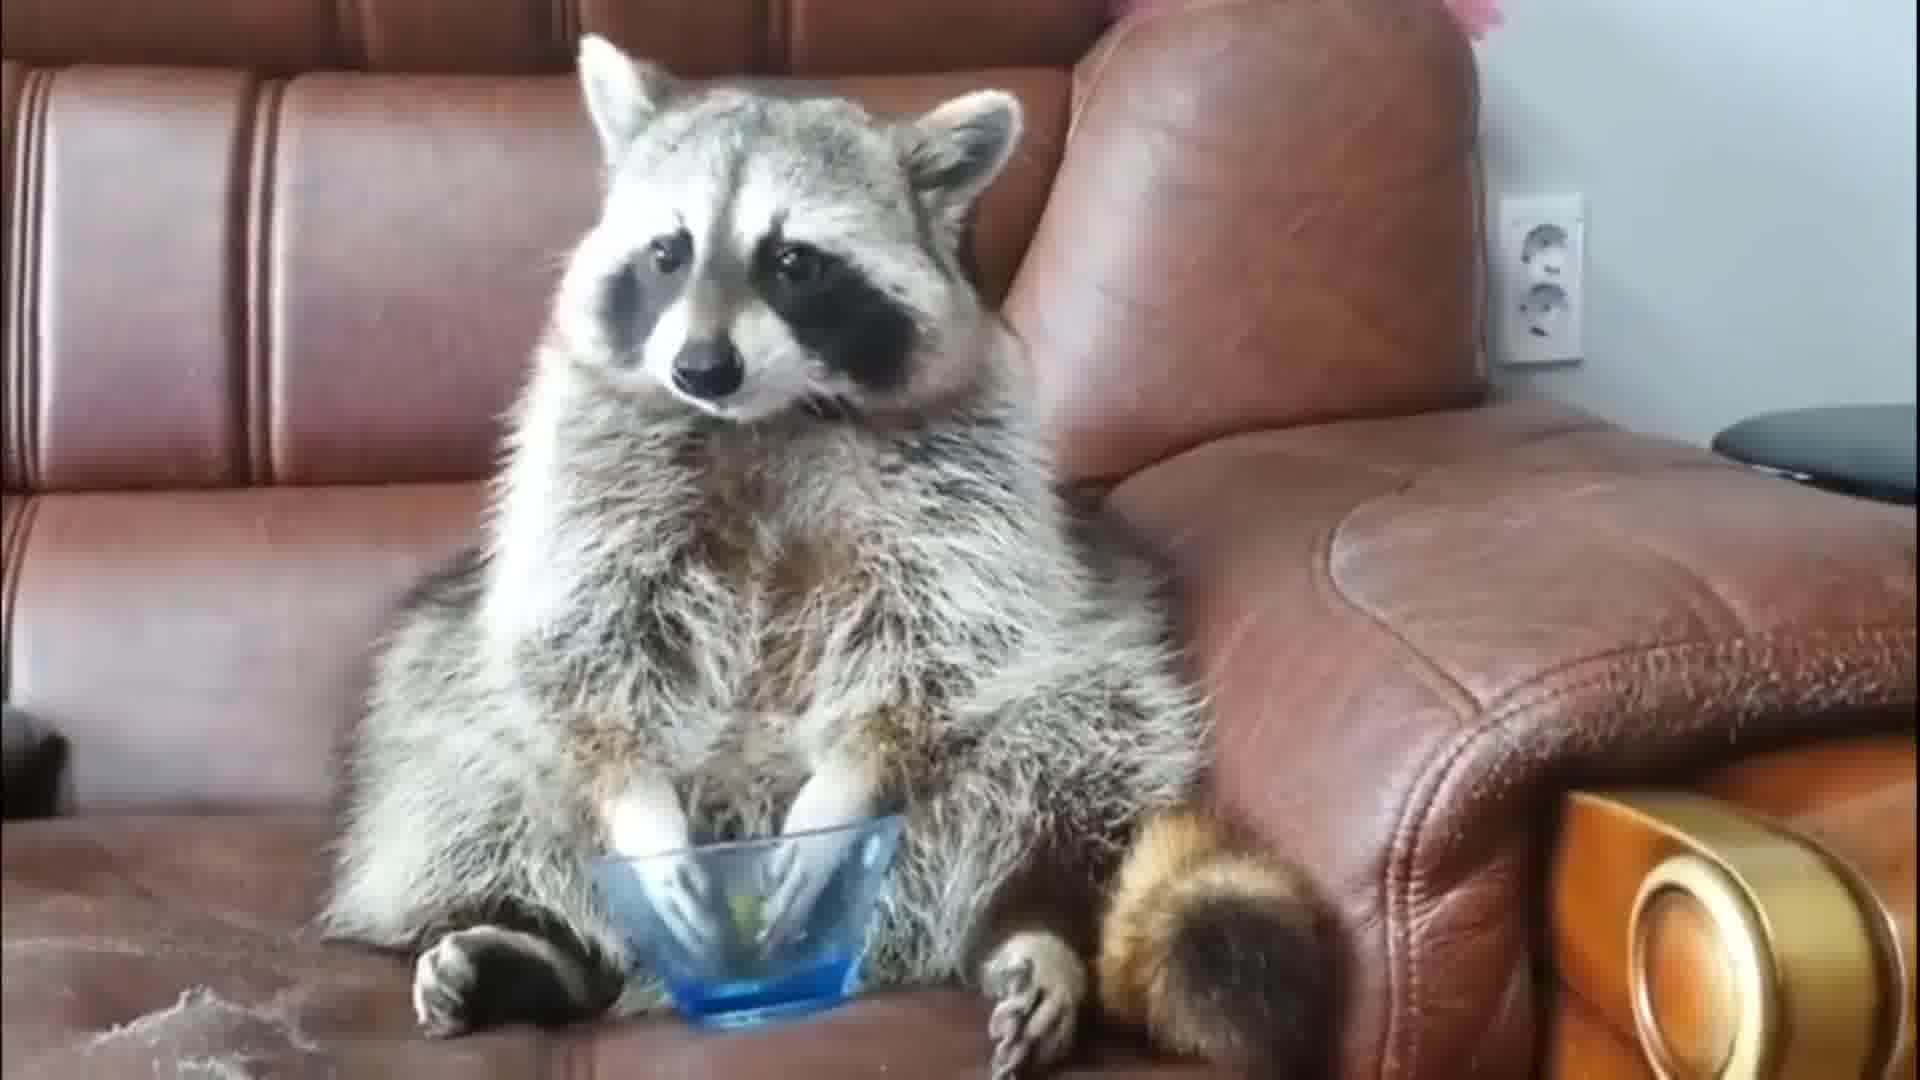raccoon: (322, 33, 1341, 1080)
